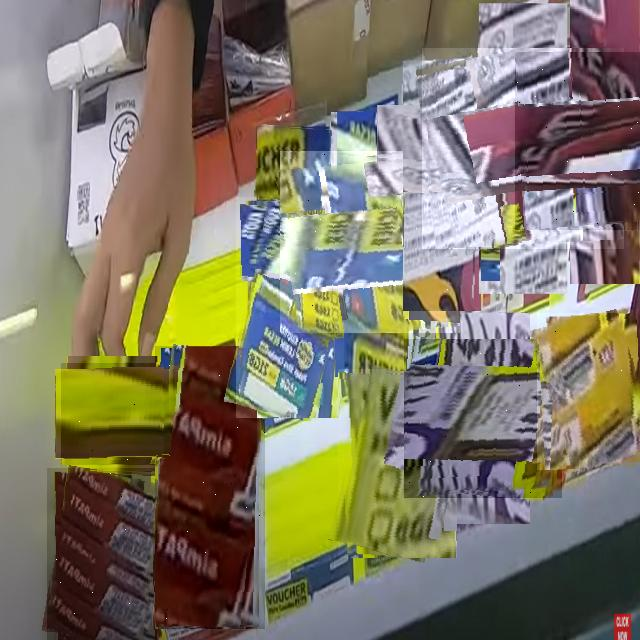Axis: (280, 151, 460, 333), (404, 339, 562, 498), (236, 197, 344, 418), (338, 369, 457, 558), (256, 126, 330, 201)
Indosat-3: (422, 48, 624, 249), (403, 61, 481, 311)
SimpaTI: (155, 346, 265, 629), (47, 468, 157, 640), (61, 363, 164, 465)
im3: (537, 313, 640, 470)
smartfren: (515, 52, 640, 230)
